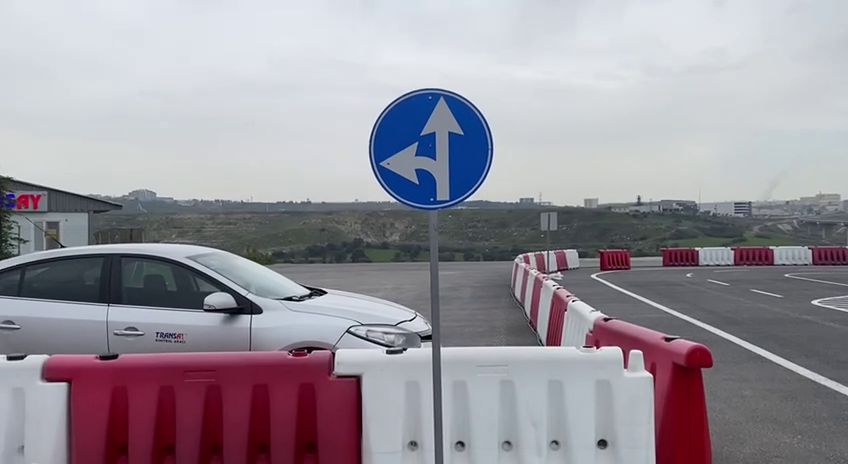forwardAndLeft: (366, 85, 495, 212)
